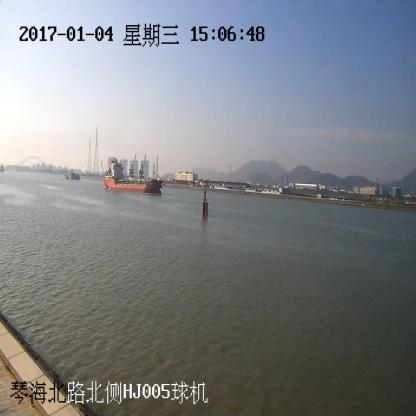Bulk Carrier: (103, 170, 162, 192)
